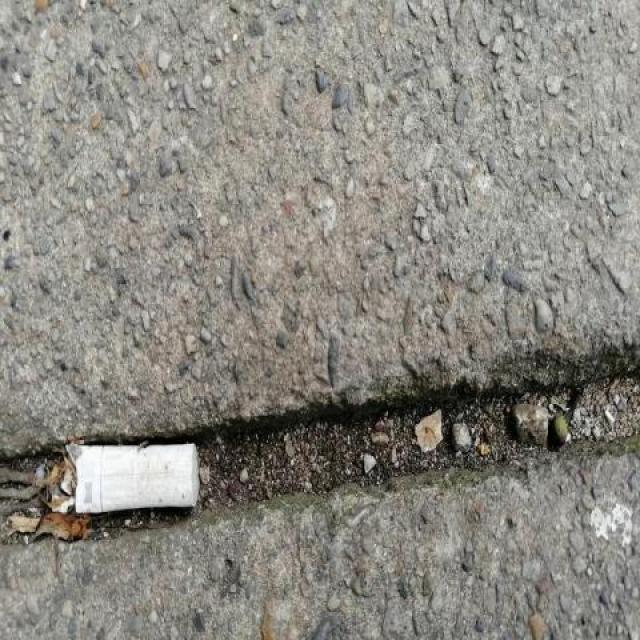non-organic waste: (59, 436, 208, 520)
